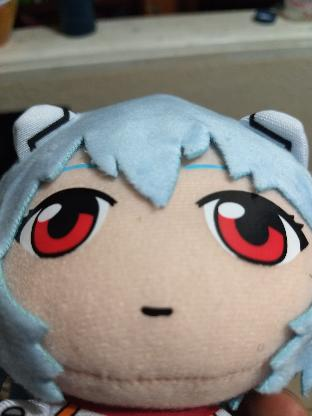rei-plush: (0, 72, 312, 411)
